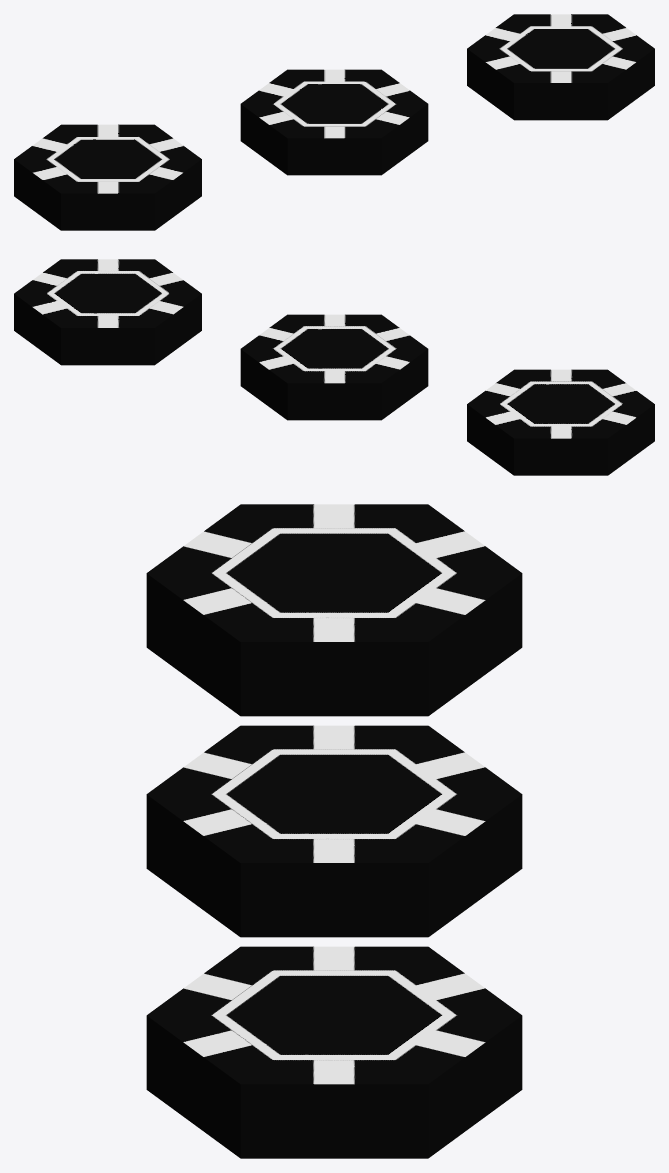
The model's file is bets.fbx.
The picture shows the model from 3 angles, top to bottom: view 1: azimuth 30°, elevation 25°; view 2: azimuth 150°, elevation 25°; view 3: azimuth 270°, elevation 25°; orthographic projection. The views are drawn at different scales.
Parts seen in each view (by area): view 1: bet 2, bet 1, bet 3; view 2: bet 2, bet 1, bet 3; view 3: bet 2, bet 1, bet 3.
Boxes of the visible parts, x1,y1,x2,y2 form: bet 2: (240, 69, 428, 175); bet 1: (14, 124, 201, 230); bet 3: (467, 14, 654, 120); bet 2: (240, 314, 428, 420); bet 1: (467, 369, 654, 475); bet 3: (14, 259, 201, 365); bet 2: (146, 725, 522, 937); bet 1: (146, 504, 522, 716); bet 3: (146, 946, 522, 1158).
Size of the model in its own units: 20.5 by 1.22 by 5.62.
Materials: 1 (1 with a texture image).
